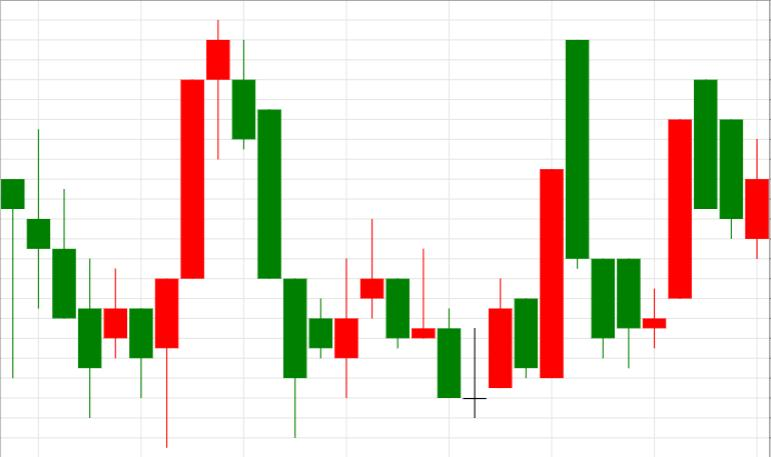hanging_man_fall: (104, 21, 231, 447)
morning_star_rise: (361, 219, 512, 418)
